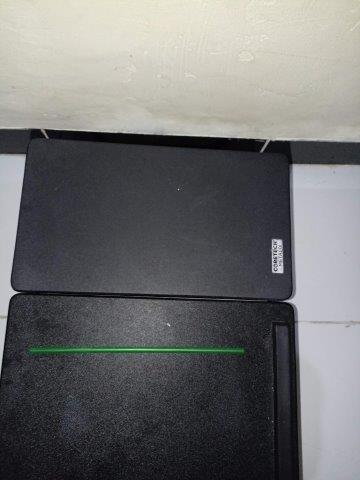sedotan: (30, 347, 244, 354)
